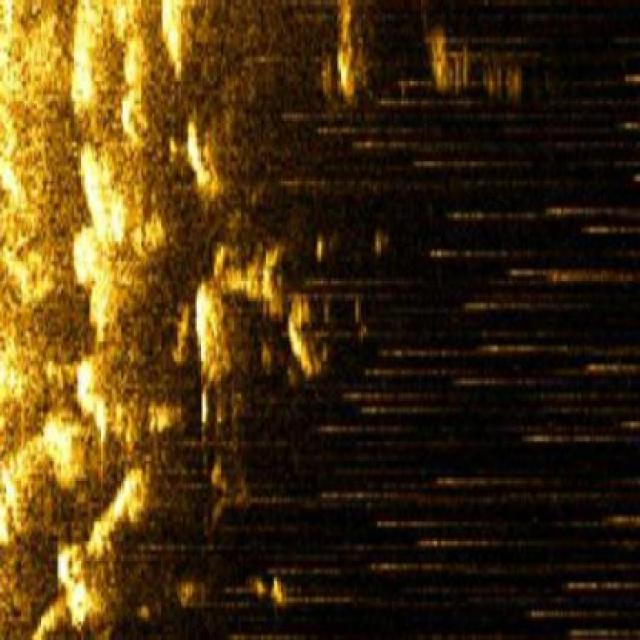bedrock group: (0, 0, 321, 638)
